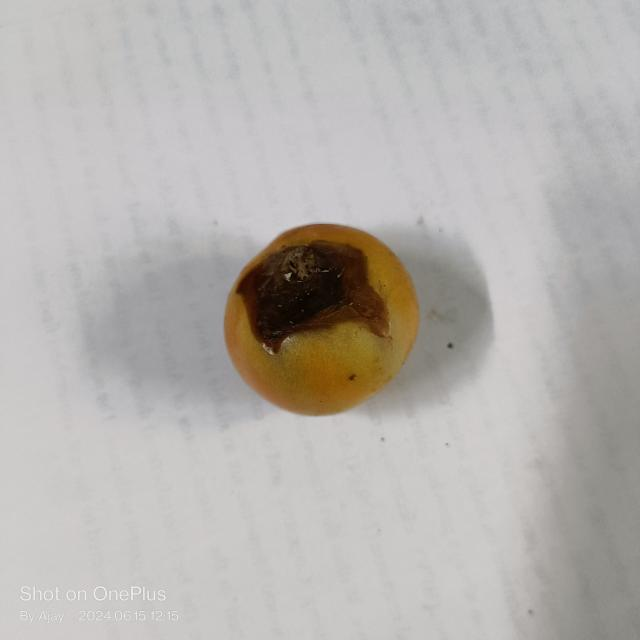Anthrocnose: (230, 244, 390, 354)
